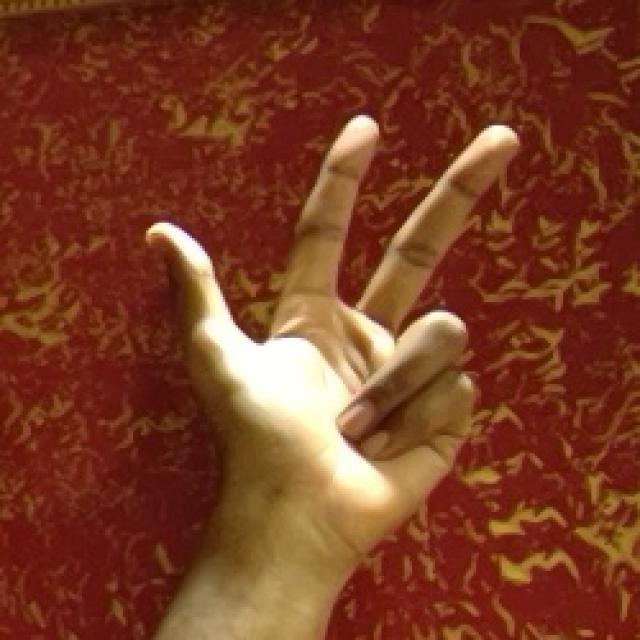Numeric-3: (139, 102, 522, 574), (586, 494, 587, 494)
